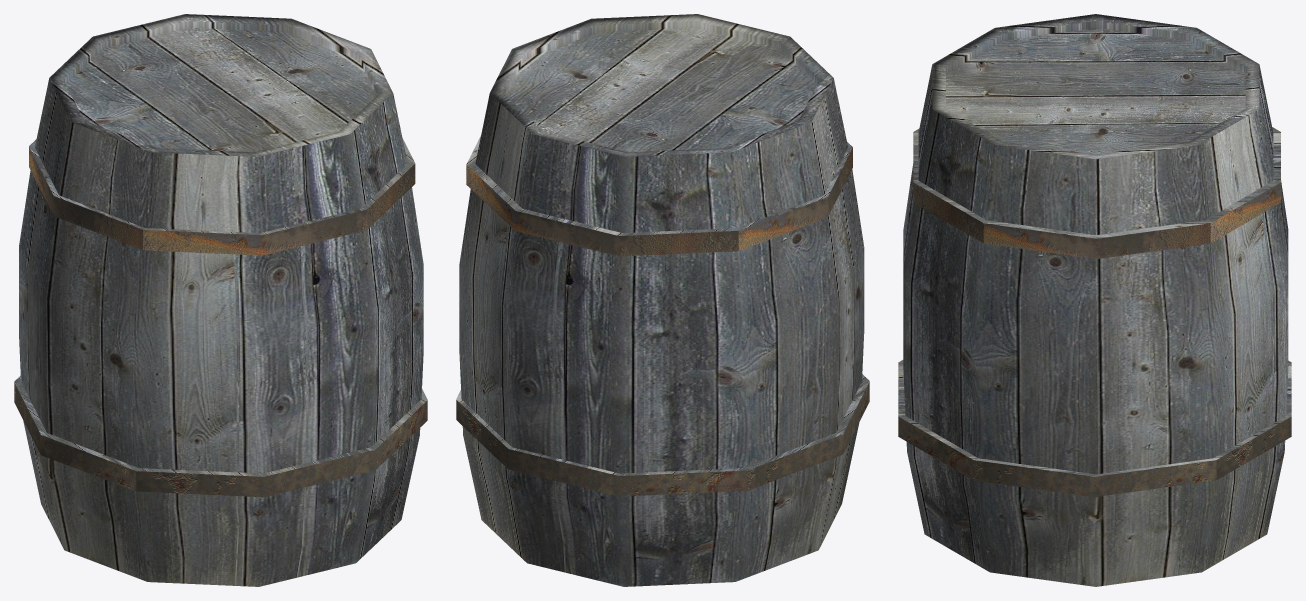
The model's file is Barrel1.obj.
3 renders of one model, left to right at view 1: azimuth 30°, elevation 25°; view 2: azimuth 150°, elevation 25°; view 3: azimuth 270°, elevation 25°, orthographic.
Parts seen in each view (by area): view 1: Cylinder01_0; view 2: Cylinder01_0; view 3: Cylinder01_0.
Boxes of the visible parts, x1,y1,x2,y2 form: Cylinder01_0: [14, 14, 427, 586]; Cylinder01_0: [456, 14, 869, 586]; Cylinder01_0: [898, 14, 1291, 586].
Size of the model in its own units: 37.43 by 42.35 by 35.59.
3 materials, 3 textured.
